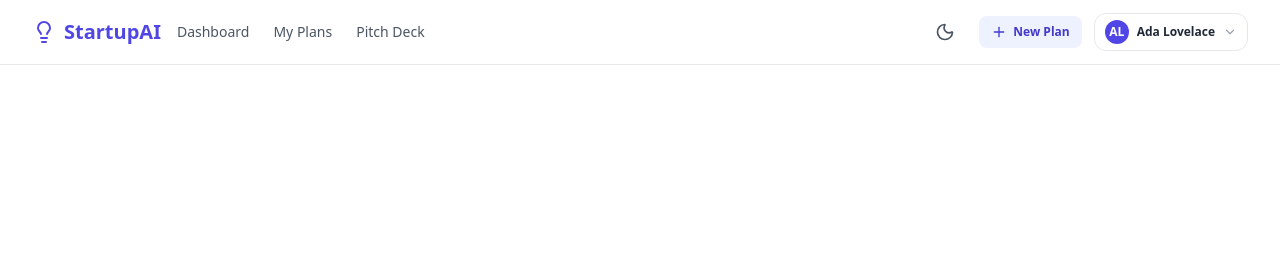
Test: Header Component Authentication UX › renders authenticated controls with user name and dropdown when logged in
The image size is (1280, 265).
Expected: the text "New Plan" is shown, [1013, 24, 1070, 40]
// Open user dropdown
Click the text "Ada Lovelace" at x=1176, y=32, box [1137, 24, 1215, 40]
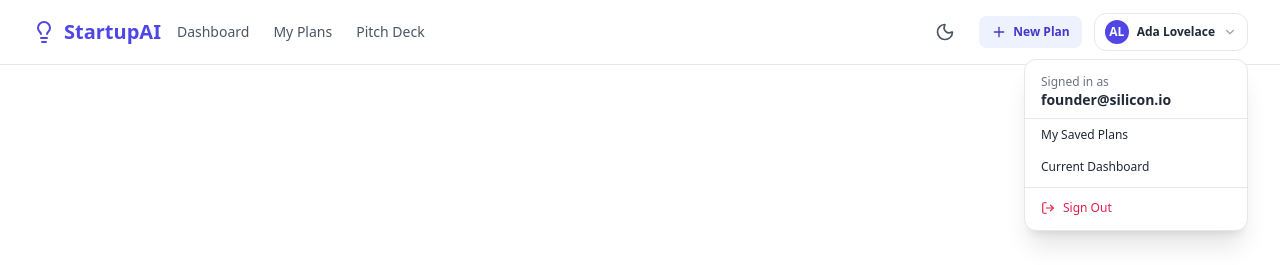
Now the text "Sign Out" is shown, box [1063, 200, 1112, 216]
